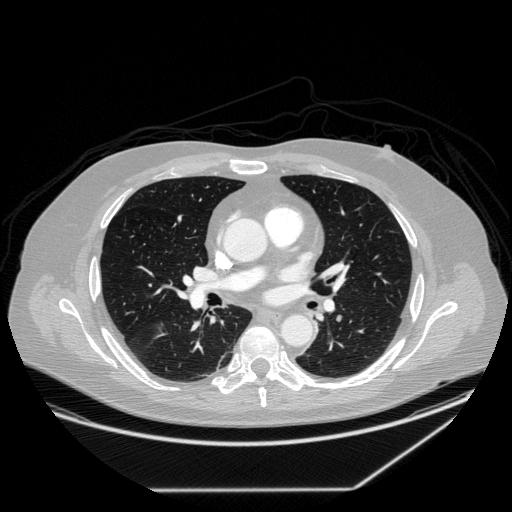nodule: (333, 312, 345, 324)
